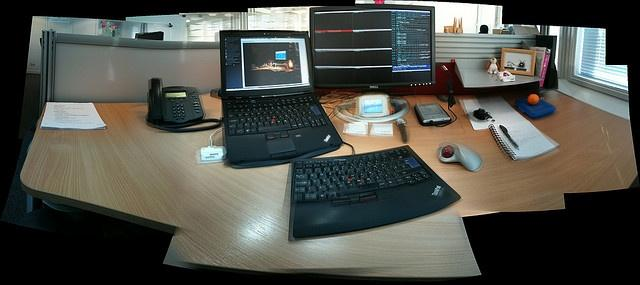AIO PC-Monitor-TV: (308, 4, 435, 89)
